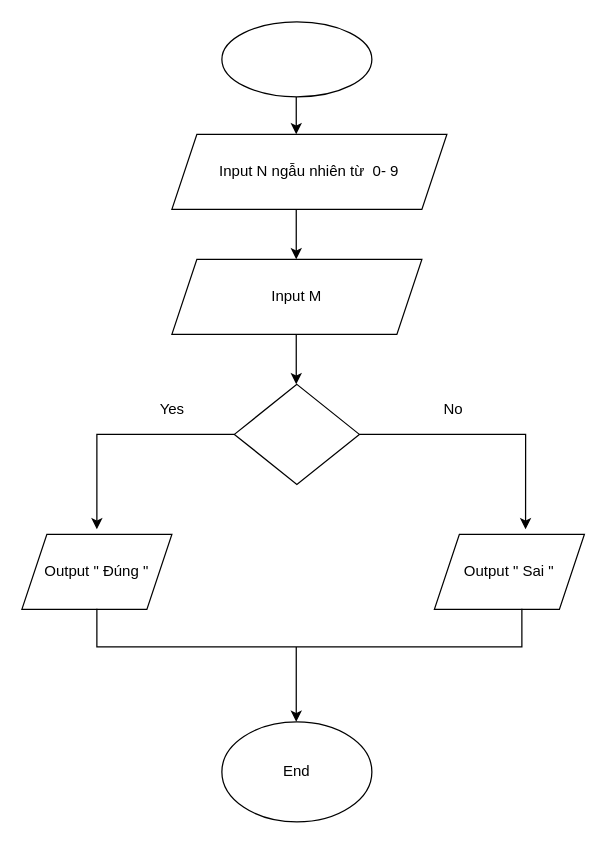
This 606x844 diagram has some shape labels left out. Each missing label, with the centre of its shape:
"Begin" belongs at [296,59].
"Lamp plugged in?" belongs at [296,433].
